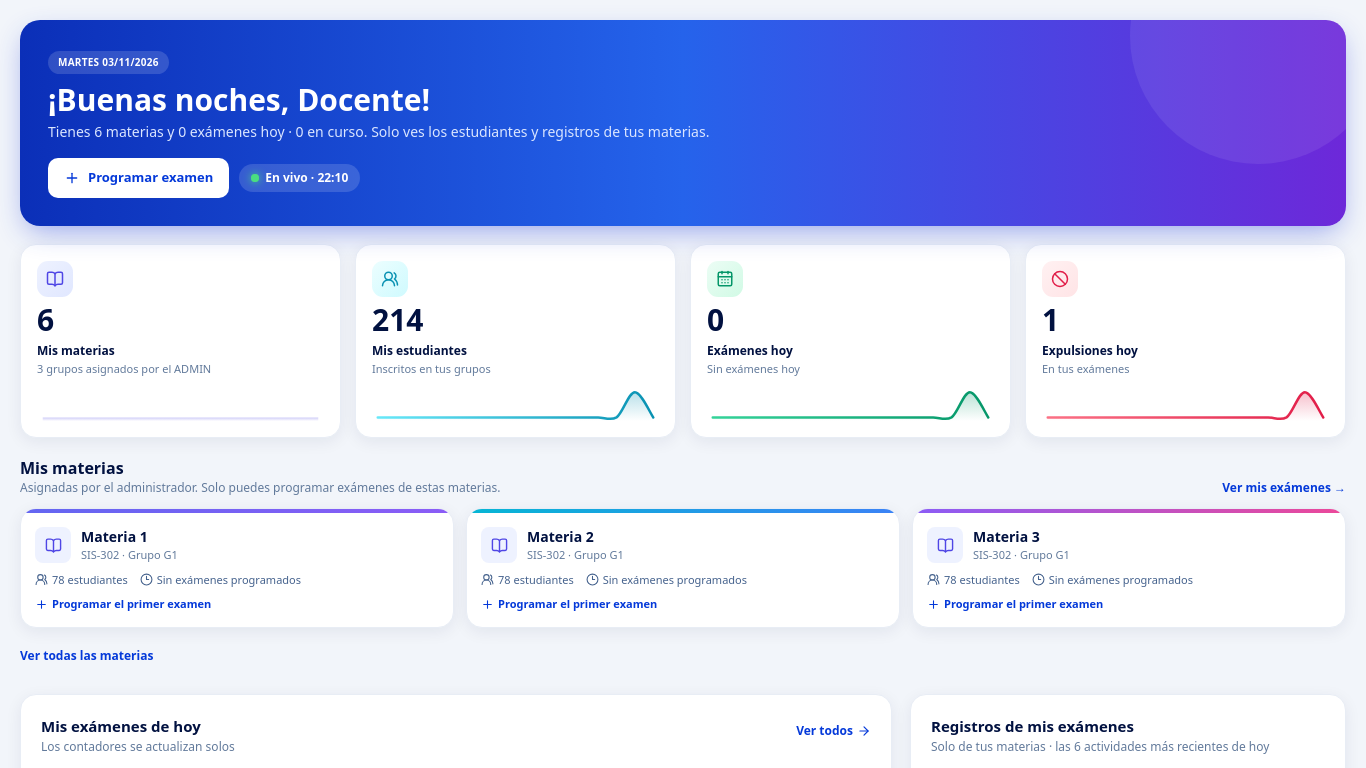
Test: Inicio del docente › resume muchas materias y permite expandirlas sin perder sus acciones
The width and height of the screenshot is (1366, 768).
Later steps or results of the test are not shown.
Check: the text "Tienes 6 materias" is shown, box [48,122,709,142]
Click the button "Ver todas las materias". click: coordinates (87, 656)
box: [20,636,153,676]
(page scrolled)
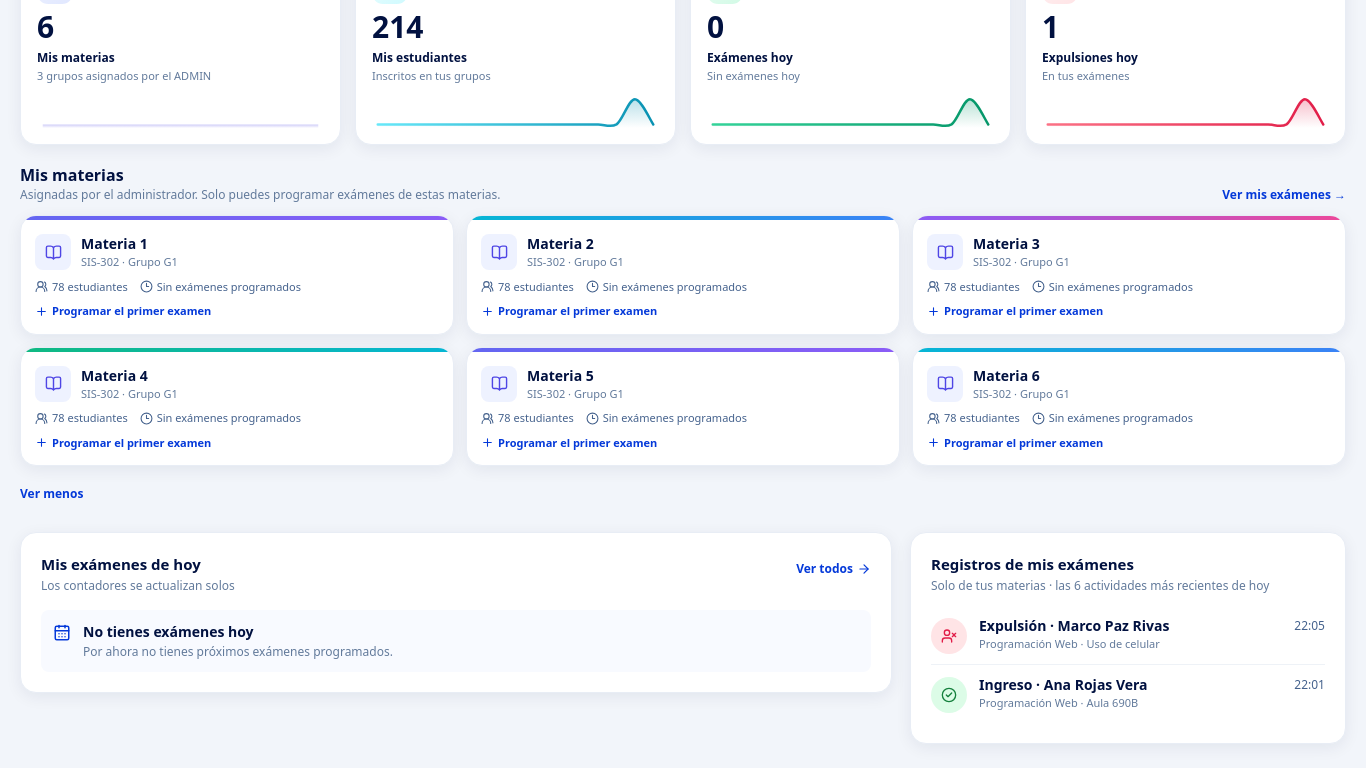
Check: the button named "Ver todas las materias" is expanded, box [20,474,83,514]
